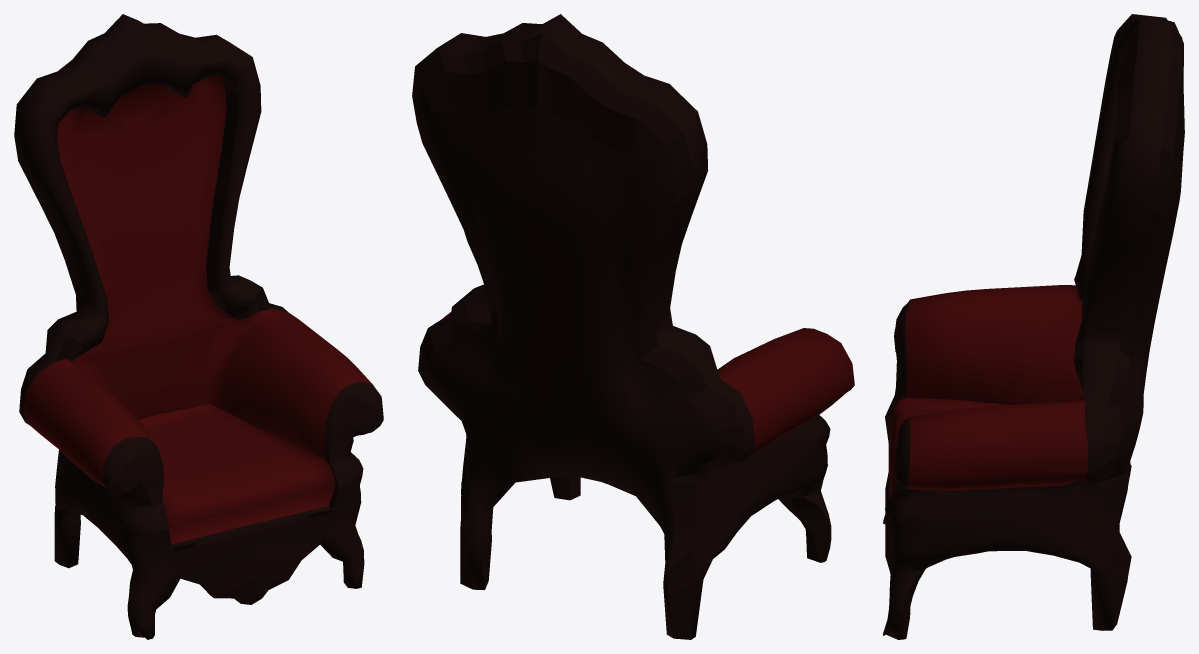
File: baroque chair.fbx
3 views of the same model, side by side, from view 1: azimuth 30°, elevation 25°; view 2: azimuth 150°, elevation 25°; view 3: azimuth 270°, elevation 25° (orthographic). The views are drawn at different scales.
Parts seen in each view (by area): view 1: Chair; view 2: Chair; view 3: Chair.
Part boxes in pixels (x1=…): Chair: x1=14, y1=14, x2=383, y2=639; Chair: x1=412, y1=14, x2=854, y2=639; Chair: x1=883, y1=14, x2=1184, y2=639.
Bounding box in the file's own units: 752 × 1297 × 629.
